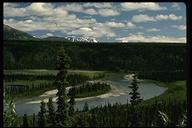cloud: (19, 5, 140, 29)
mountain: (4, 22, 185, 68)
sky: (37, 5, 185, 33)
tree: (55, 68, 78, 122), (126, 70, 144, 121)
water: (8, 70, 168, 118)
